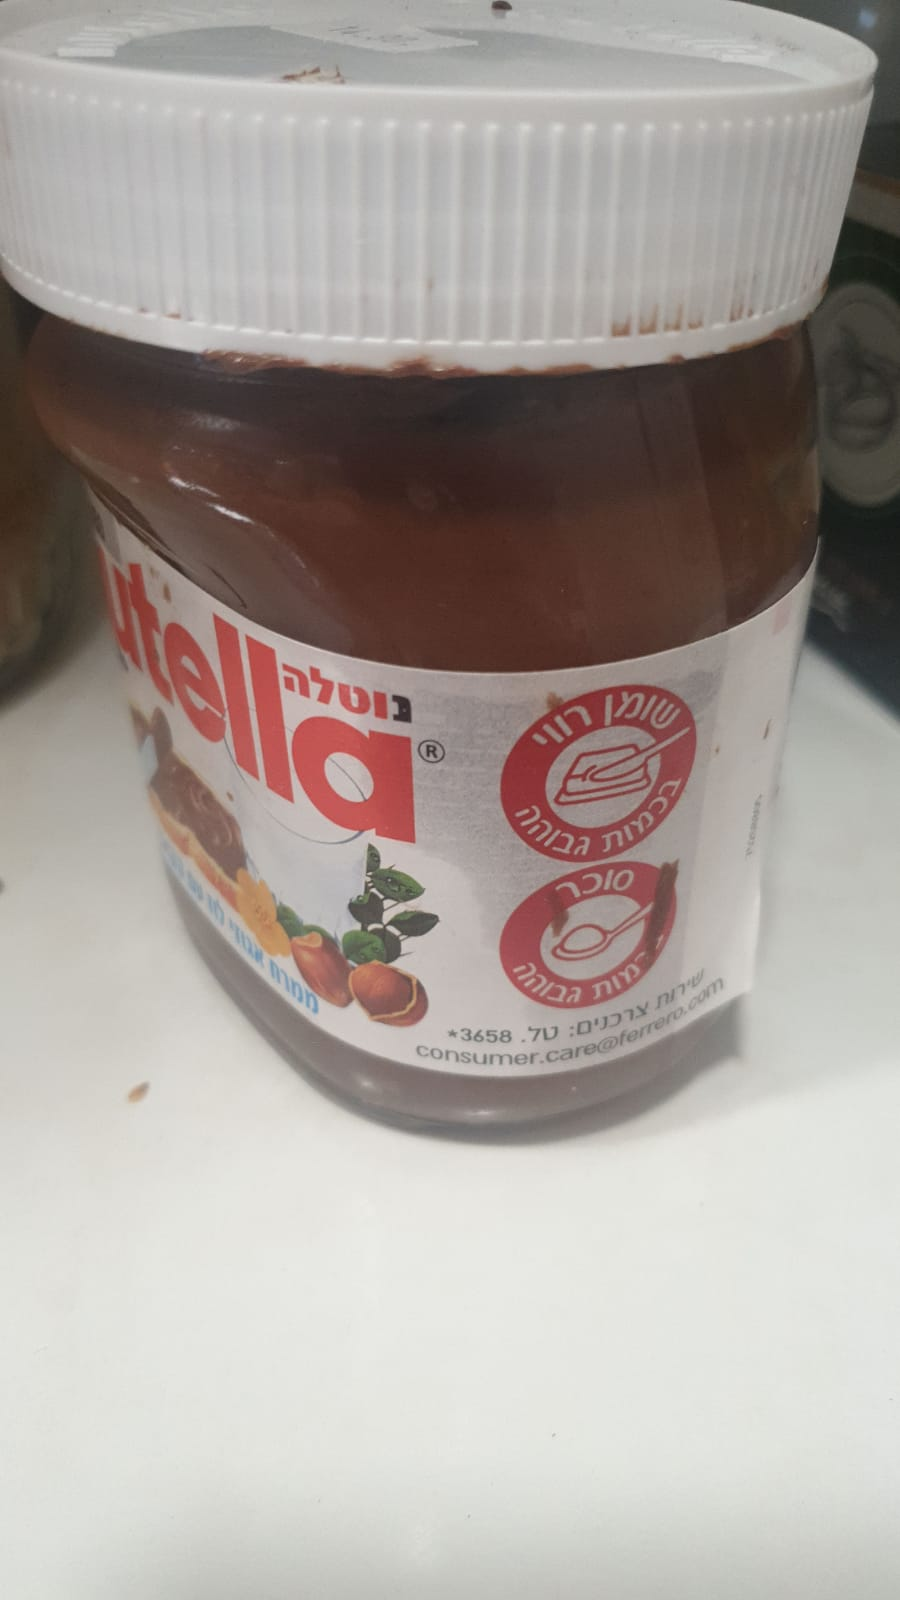fat: (496, 685, 697, 862)
sugar: (496, 862, 674, 1011)
